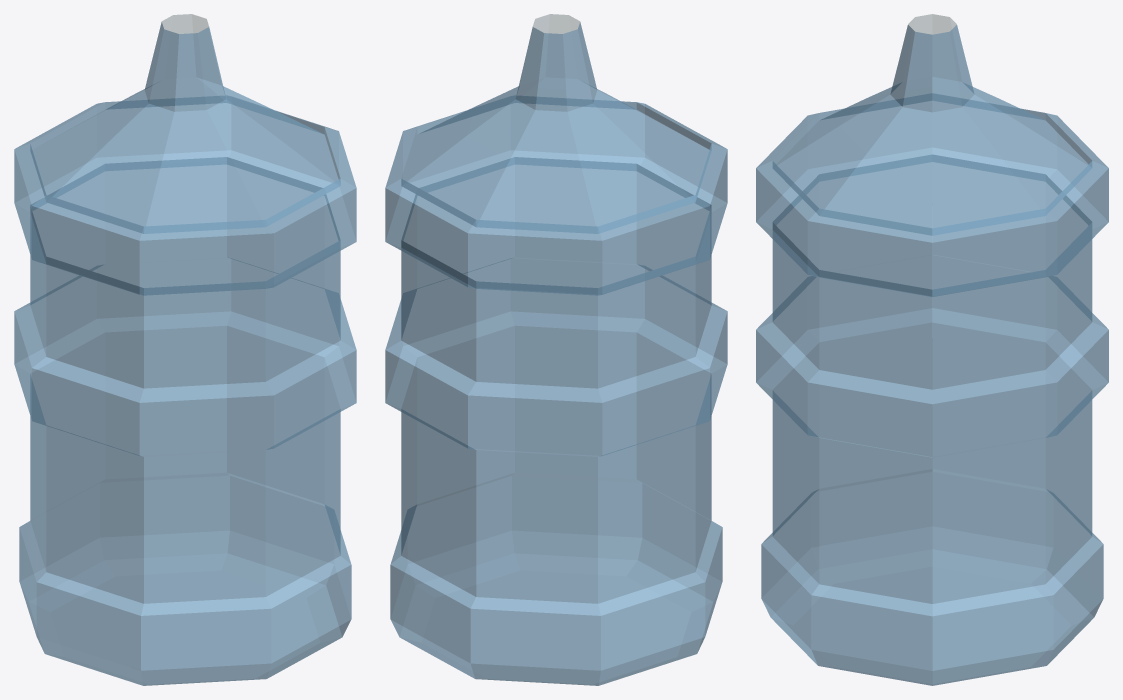
File: Jug_Blue.fbx
3 renders of one model, left to right at view 1: azimuth 30°, elevation 25°; view 2: azimuth 150°, elevation 25°; view 3: azimuth 270°, elevation 25°, orthographic.
Parts seen in each view (by area): view 1: Water_Dispenser.001; view 2: Water_Dispenser.001; view 3: Water_Dispenser.001.
Boxes of the visible parts, box(x1,y1,x2,y2) form: Water_Dispenser.001: box(14, 14, 356, 685); Water_Dispenser.001: box(385, 14, 727, 685); Water_Dispenser.001: box(756, 14, 1108, 685).
Bounding box in the file's own units: 29.78 × 55.96 × 29.78.
